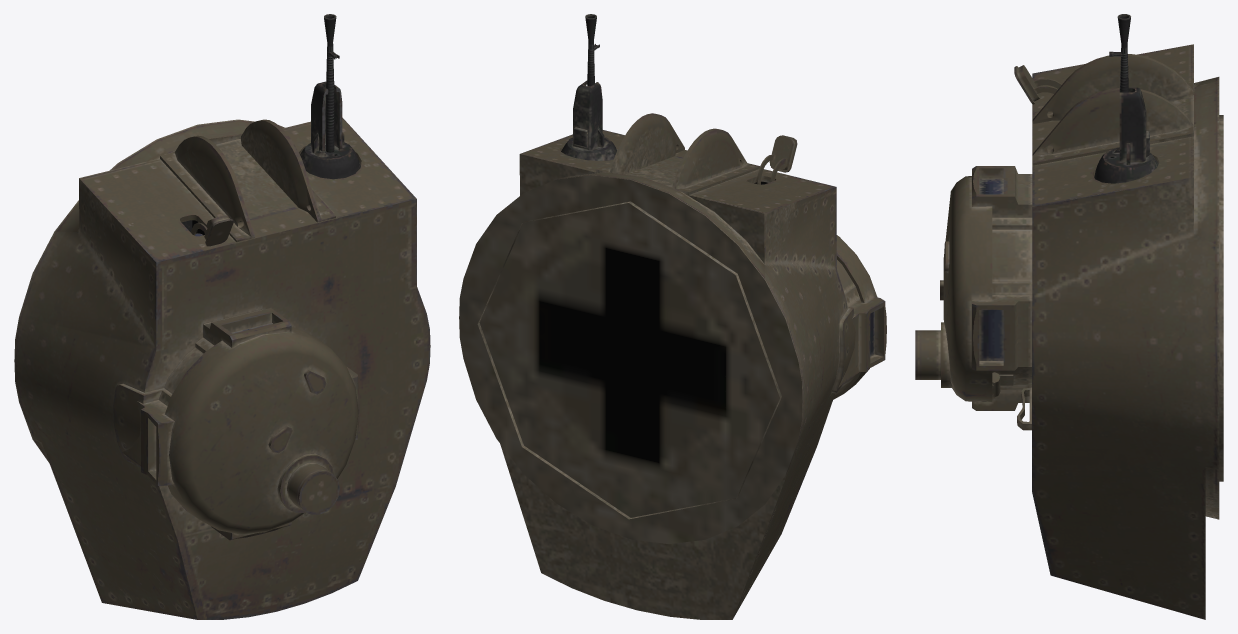
File: Turret_01.glb
The picture shows the model from 3 angles, left to right: view 1: azimuth 30°, elevation 25°; view 2: azimuth 150°, elevation 25°; view 3: azimuth 270°, elevation 25°; orthographic projection. The views are drawn at different scales.
Parts seen in each view (by area): view 1: set_0_group_0; view 2: set_0_group_0; view 3: set_0_group_0.
Boxes of the visible parts, <box> form: set_0_group_0: <box>14,14,430,619</box>; set_0_group_0: <box>459,14,886,619</box>; set_0_group_0: <box>915,14,1223,619</box>.
Size of the model in its own units: 1.32 by 2.01 by 0.9199.
Materials: 1 (1 with a texture image).
